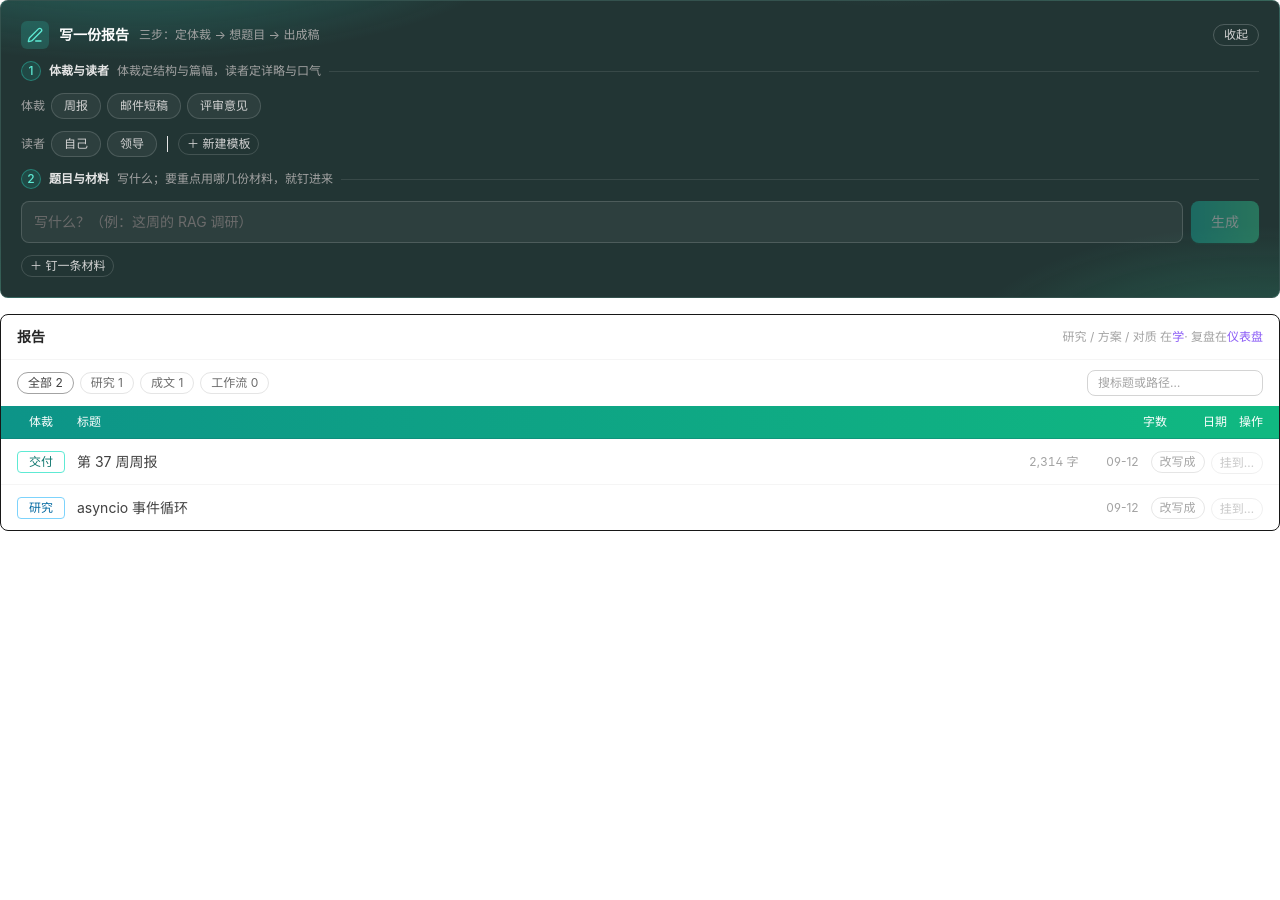
Scenario: ReportPage · 生成面板（§8.1） › 六态走得出来，且**每一步都看得见是哪一态**（P1）
Expected: the button "周报" is shown, [51,93,101,119]
Type "这周的 RAG" into the field with placeholder "写什么？（例：这周的 RAG 调研）".
click(602, 222); type("这周的 RAG")  # box [21,201,1183,243]
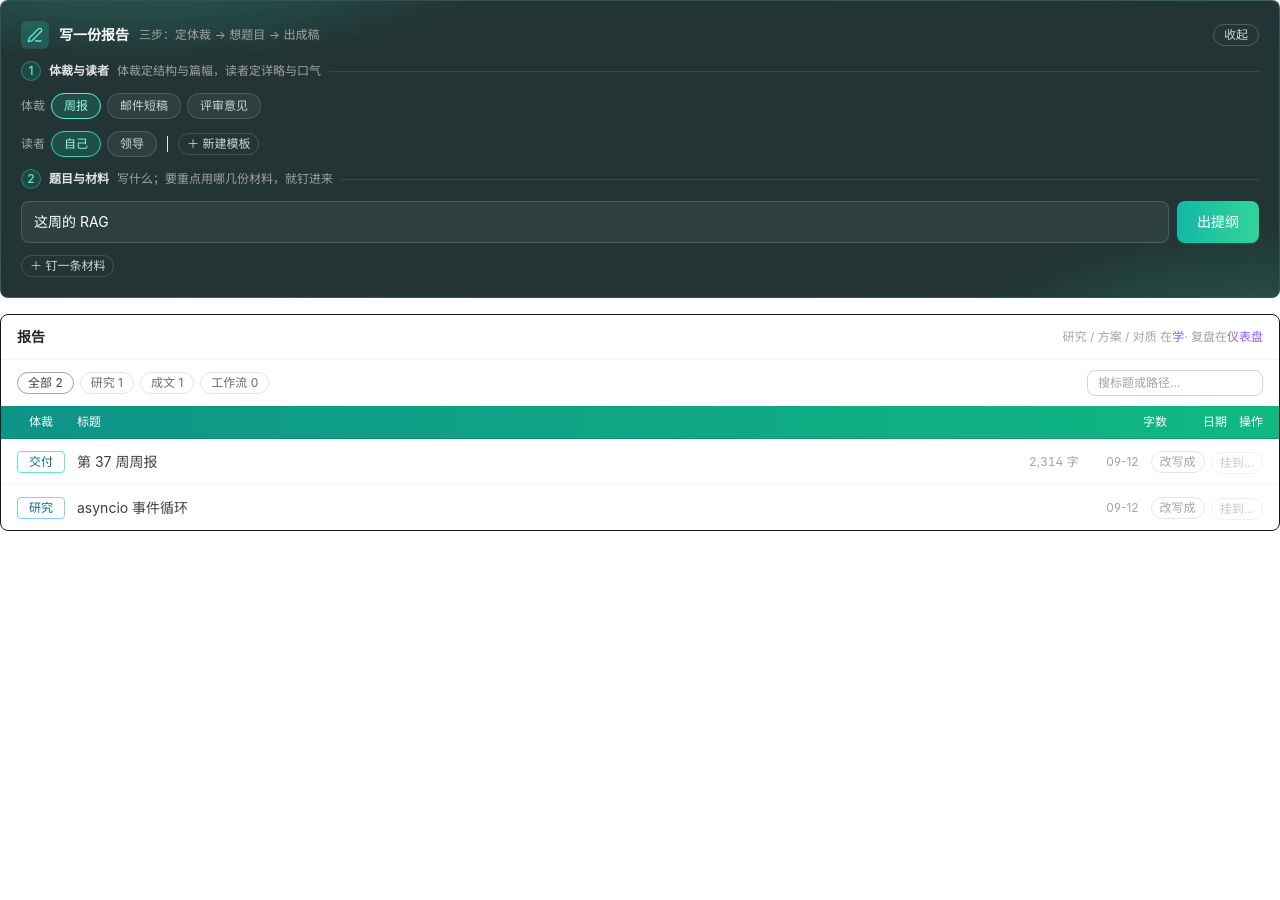
Click the button "出提纲".
click(1218, 222)  # box [1177,201,1259,243]
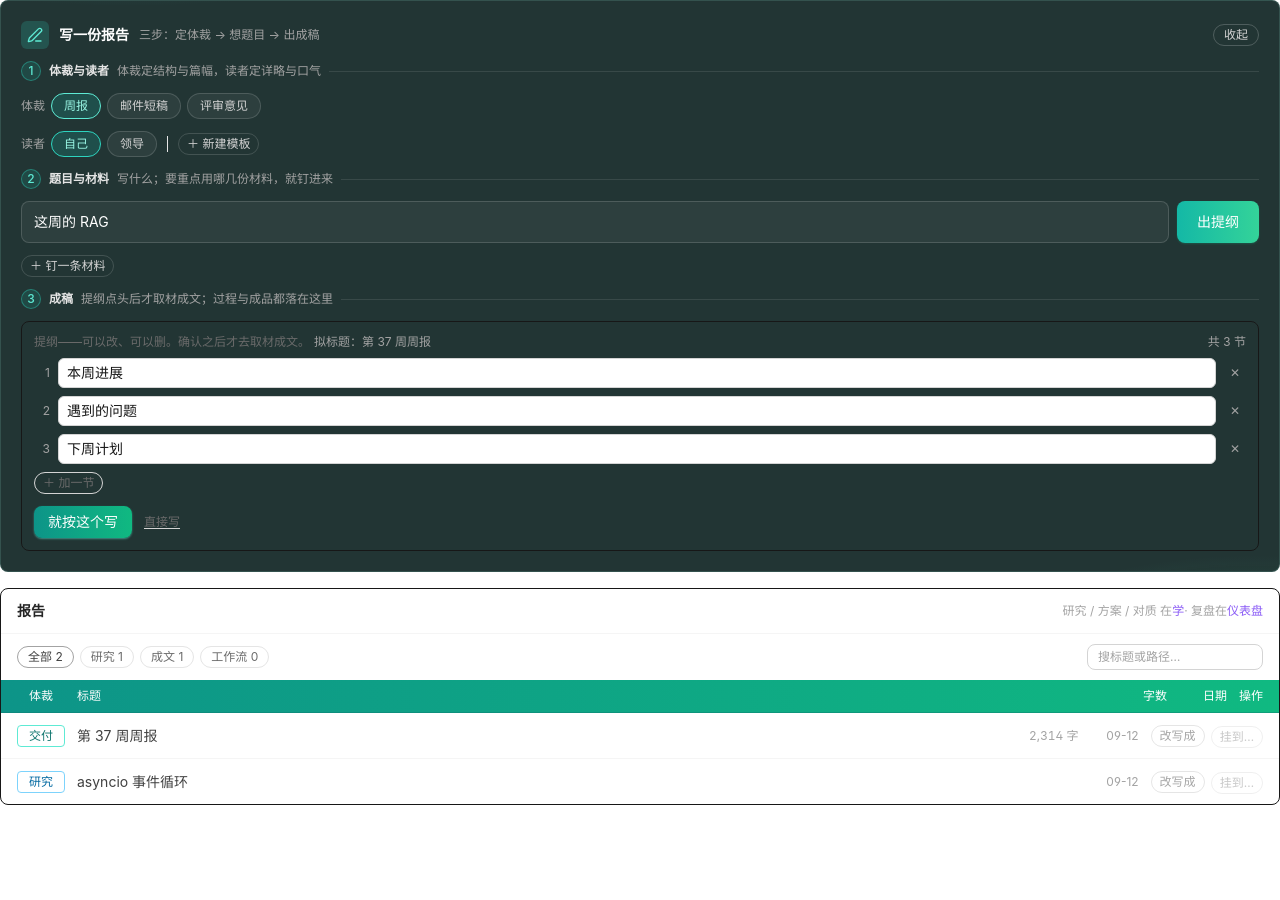
Click the button "就按这个写".
click(83, 522)  # box [34,506,132,538]
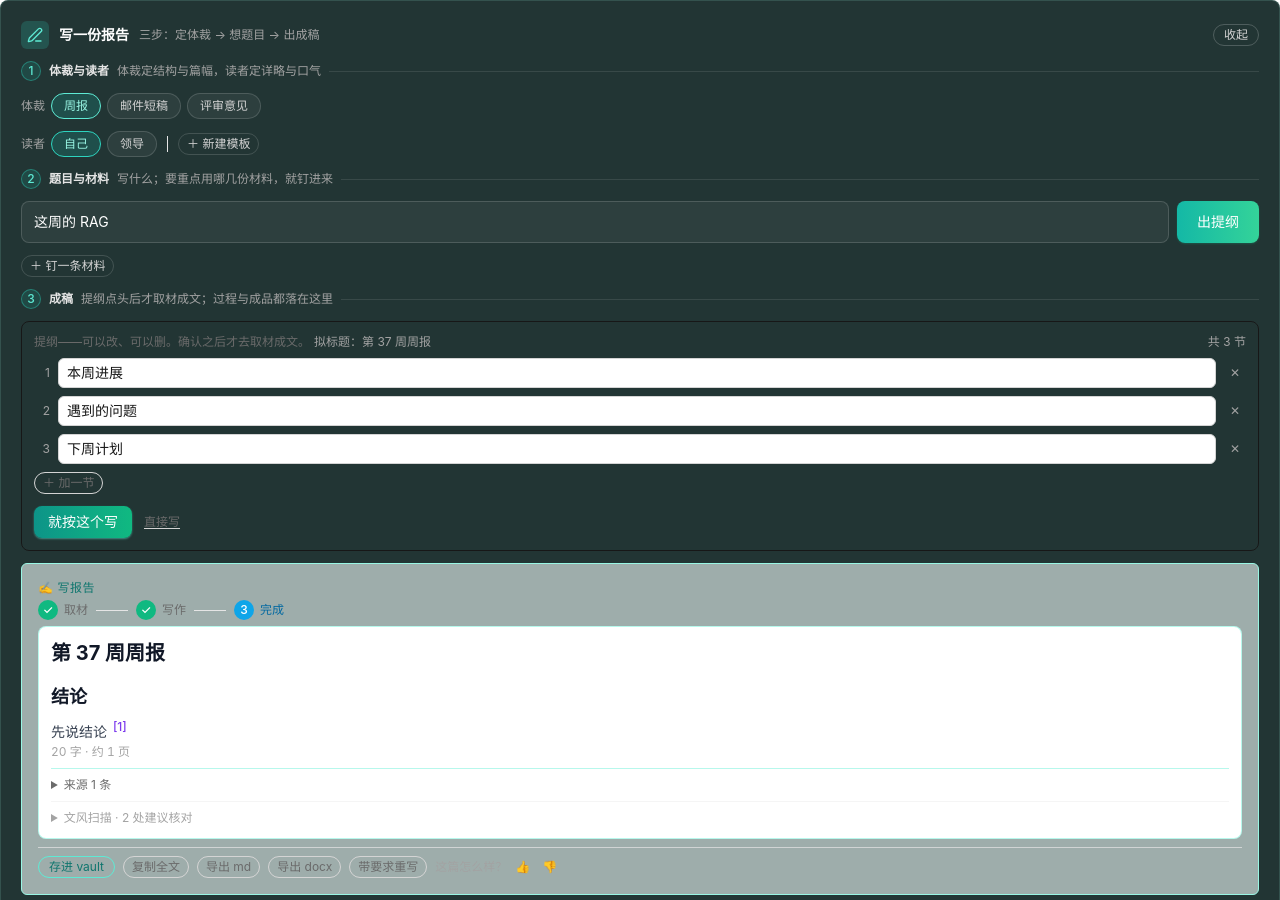
Expected: the text "先说结论" is shown, [51,723,111,740]
Expected: the list is shown, [38,600,284,620]
Expected: the heading "文风扫描 · 2 处建议核对" is shown
Click the heading "文风扫描 · 2 处建议核对".
click(128, 817)  # box [64,810,193,825]
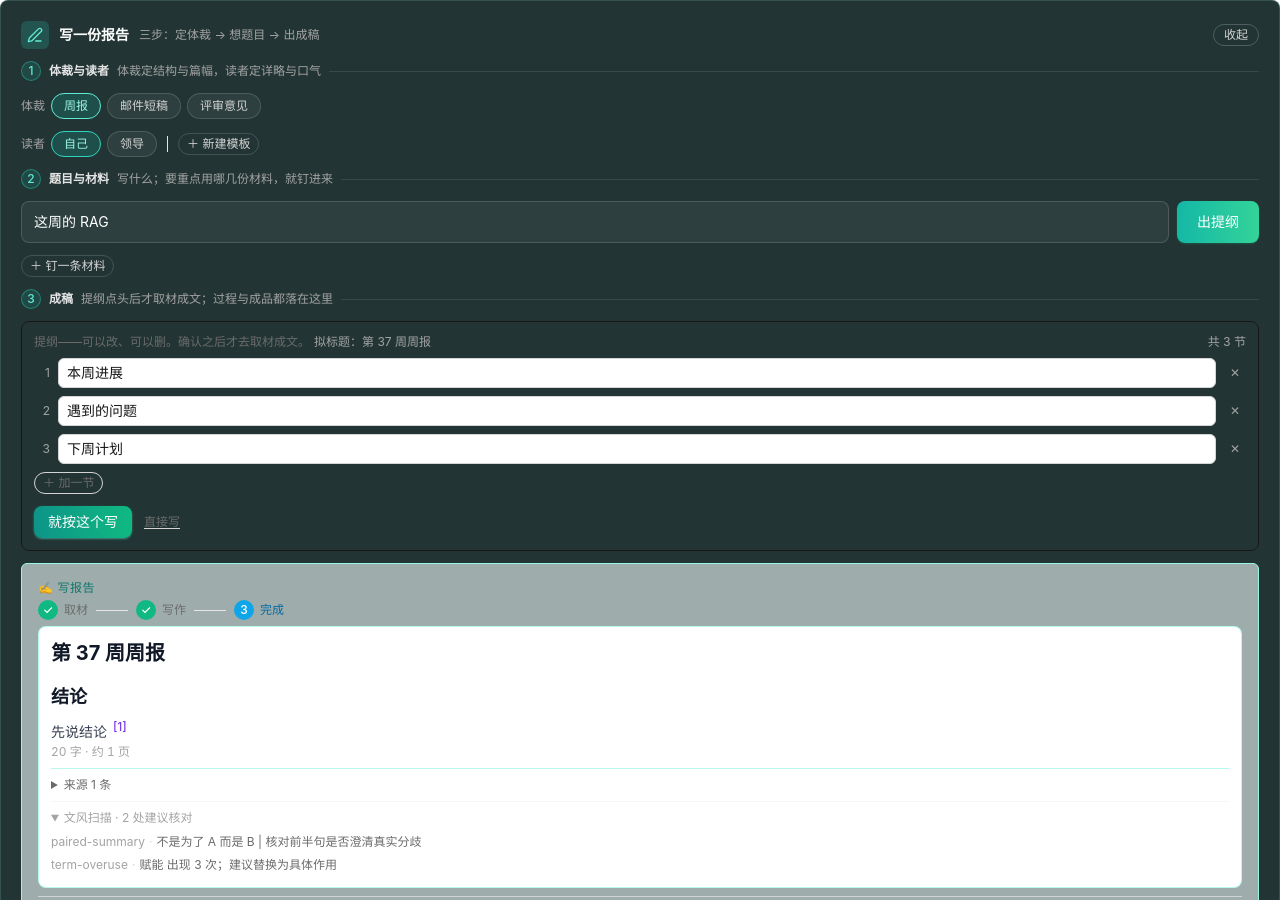
Expected: the text "paired-summary" is shown, [51,834,145,849]
